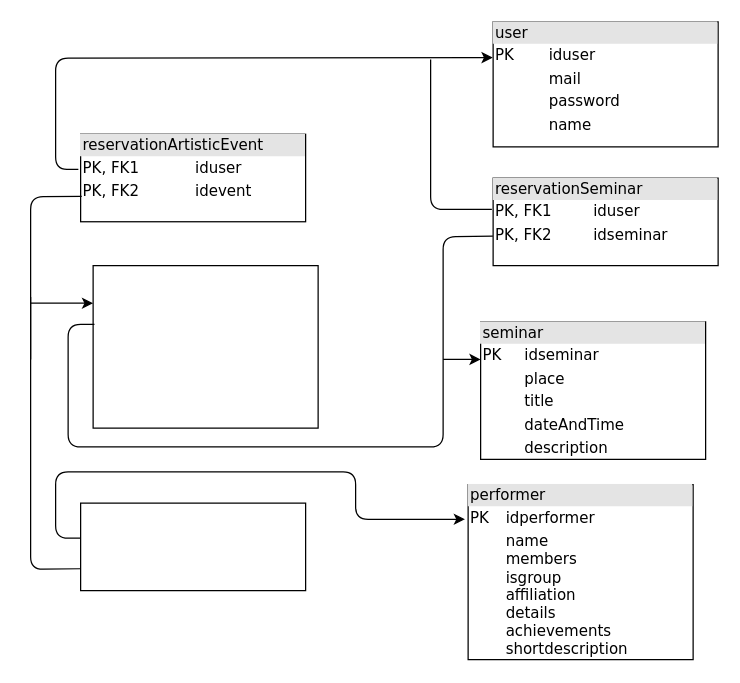
This 740x683 diagram has some shape labels left out. The shapes that lost their labels are listed below. From the top down, each one's centre as x and y in pixels, then its label:
At (x=205, y=346): "artisticEvent PK idevent FK idseminar description place dateAndTime type title".
At (x=192, y=546): "performs PK, FK1 idperformer PK, FK2 idevent".
